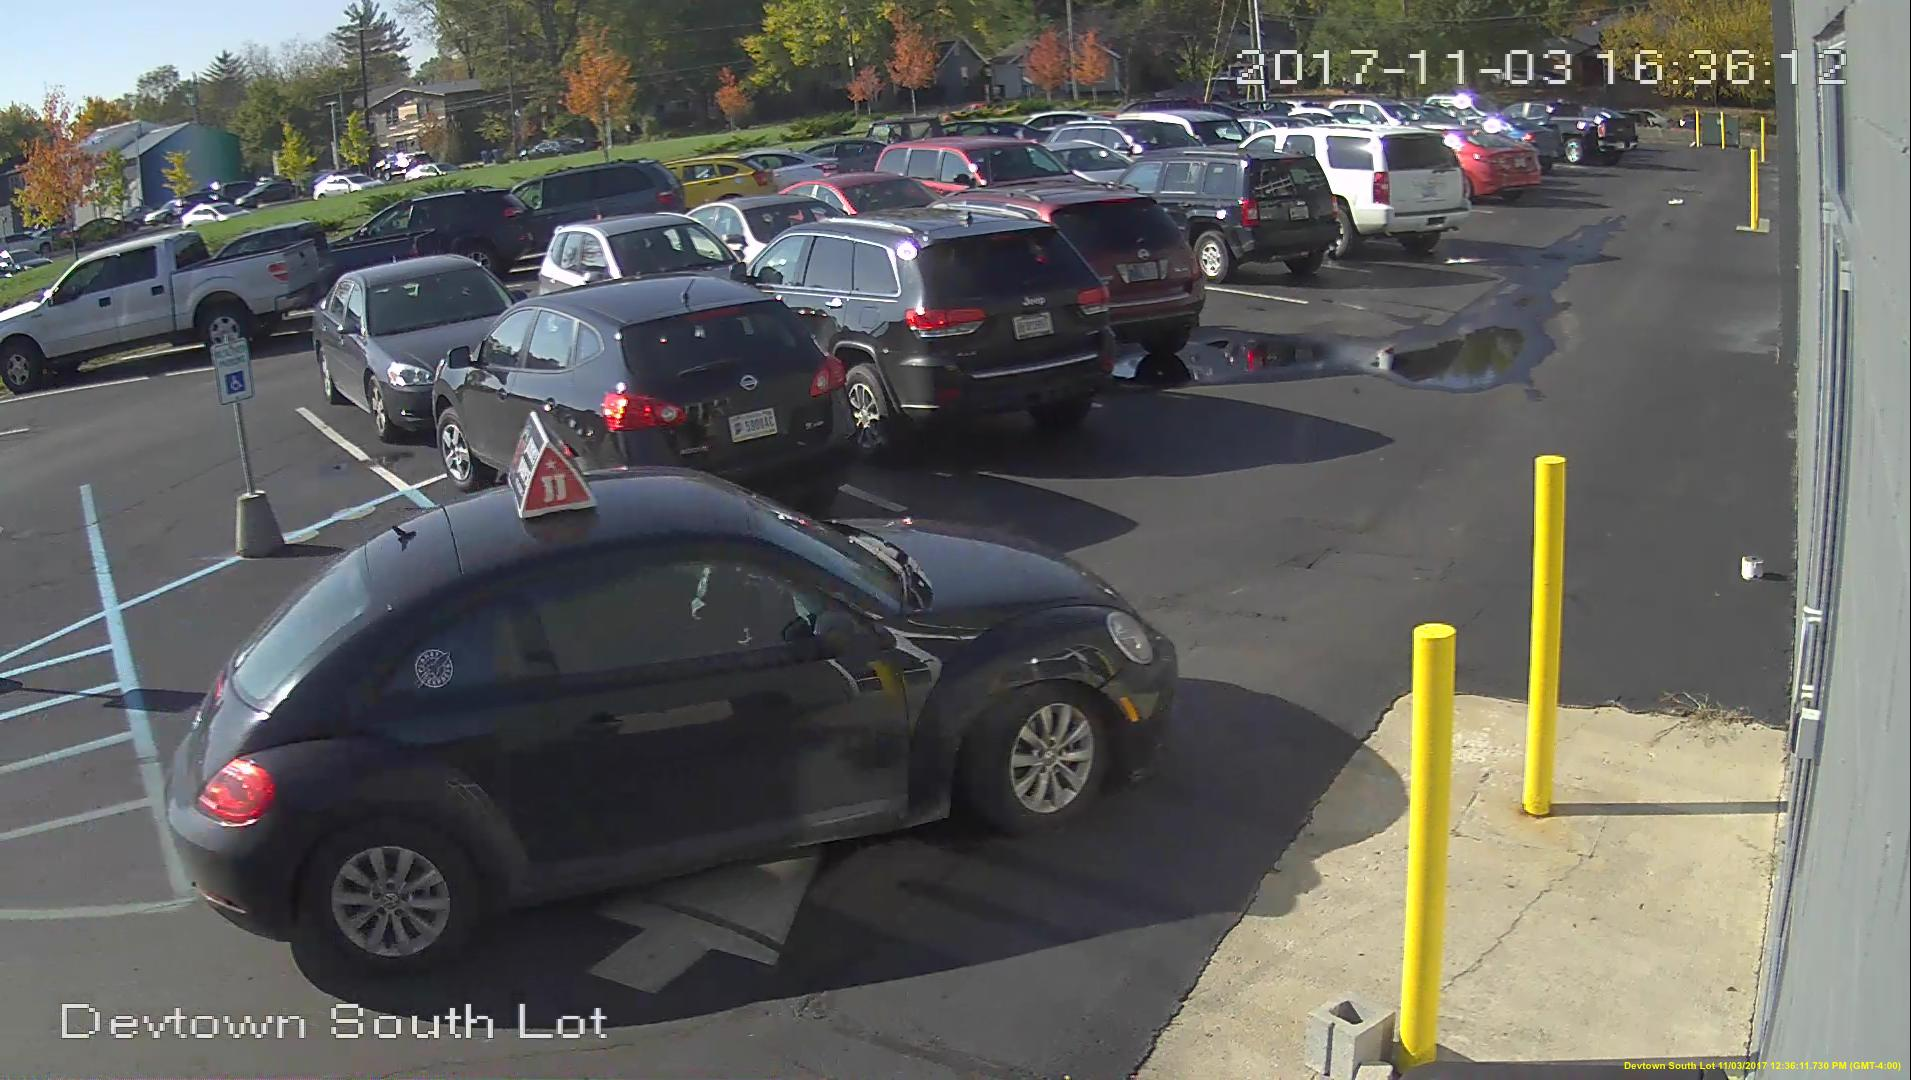jimmy_johns: (499, 408, 597, 524)
